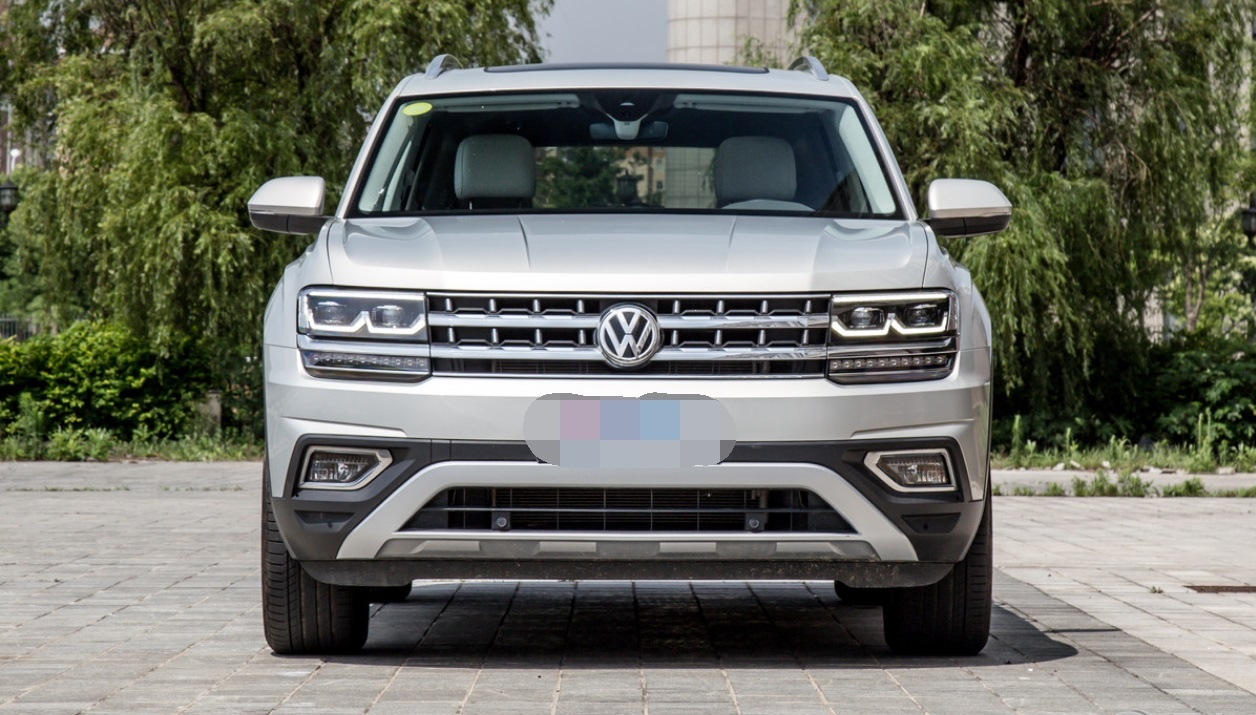SUV: (215, 55, 1032, 662)
